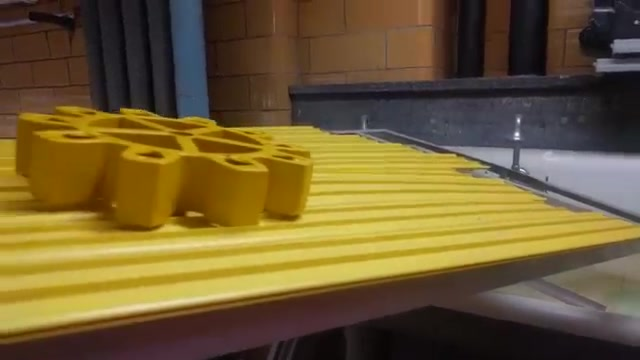gear: (12, 93, 320, 245)
